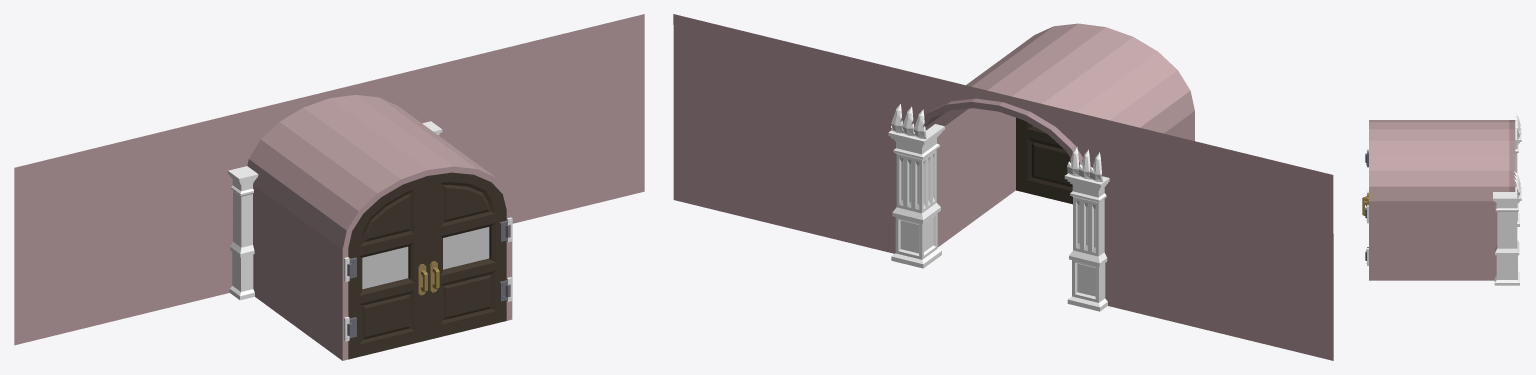
Rendered from ReceptionArchDoorfbx.fbx.
The picture shows the model from 3 angles, left to right: view 1: azimuth 30°, elevation 25°; view 2: azimuth 150°, elevation 25°; view 3: azimuth 270°, elevation 25°; orthographic projection. The views are drawn at different scales.
Parts seen in each view (by area): view 1: ReceptionArch, ReceptionArchDoor_L, ReceptionArchDoor_R, ReceptionArchDoor_Pillars1; view 2: ReceptionArch, ReceptionArchDoor_Pillars1, ReceptionArchDoor_L; view 3: ReceptionArch, ReceptionArchDoor_Pillars1.
Part boxes in pixels (<box>): ReceptionArch: <box>14,14,644,360</box>; ReceptionArchDoor_L: <box>427,172,510,339</box>; ReceptionArchDoor_R: <box>347,176,427,359</box>; ReceptionArchDoor_Pillars1: <box>228,121,442,300</box>; ReceptionArch: <box>673,14,1333,360</box>; ReceptionArchDoor_Pillars1: <box>888,104,1109,311</box>; ReceptionArchDoor_L: <box>1016,117,1072,204</box>; ReceptionArch: <box>1369,120,1515,280</box>; ReceptionArchDoor_Pillars1: <box>1493,112,1521,285</box>.
Bounding box in the file's own units: 1114 × 300 × 340.
